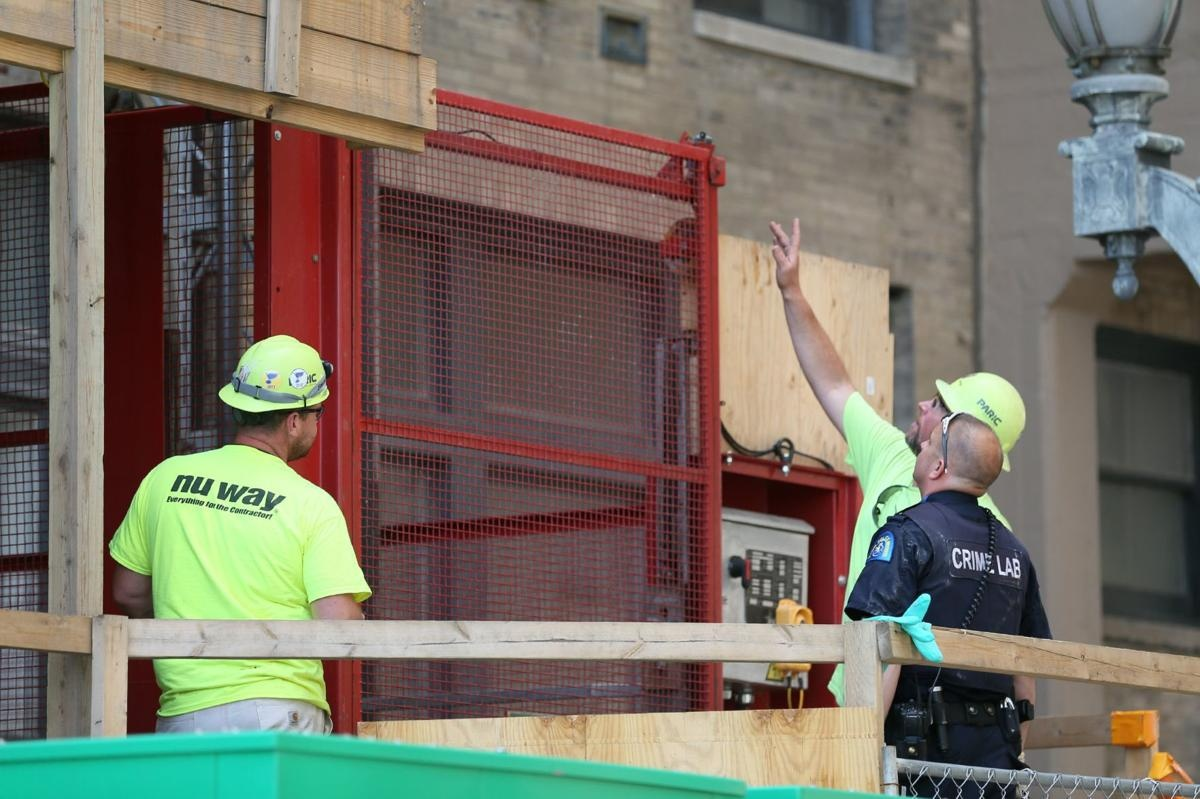none: (909, 416, 1004, 503)
yellow: (222, 330, 332, 457), (901, 368, 1026, 465)
